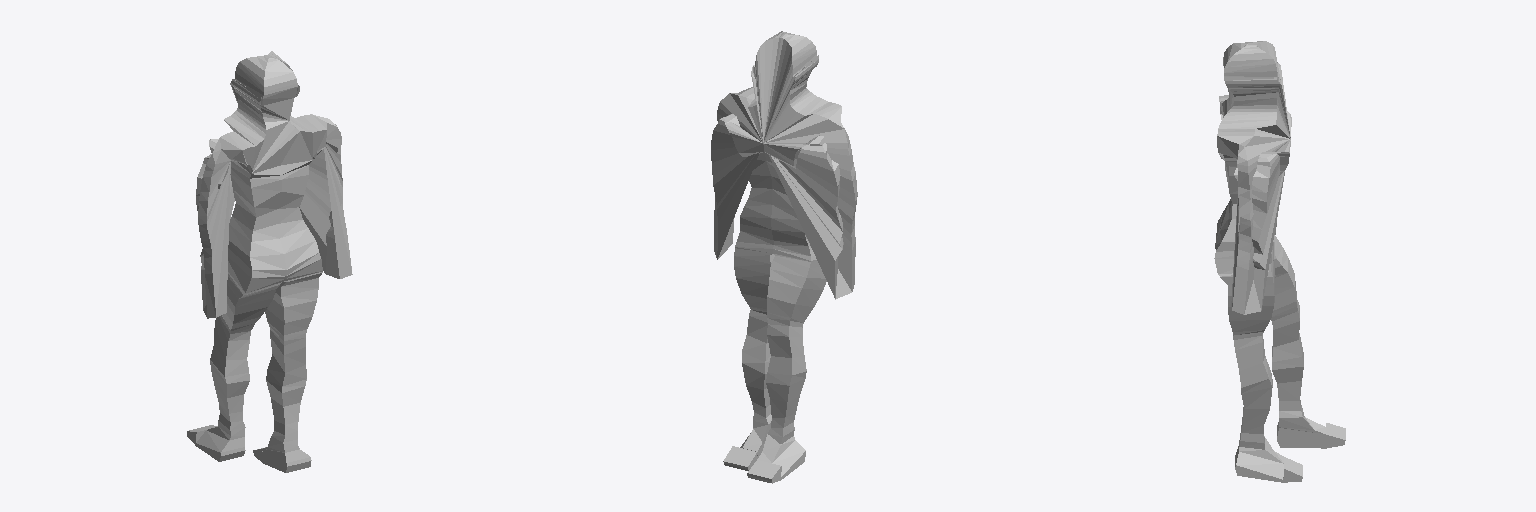
Rendered from woman_000038.obj.
3 renders of one model, left to right at view 1: azimuth 30°, elevation 25°; view 2: azimuth 150°, elevation 25°; view 3: azimuth 270°, elevation 25°, orthographic.
Visible parts, largest first — view 1: Cube_Cube.001; view 2: Cube_Cube.001; view 3: Cube_Cube.001.
Part boxes in pixels (left/top/right/bottom): Cube_Cube.001: left=187, top=51, right=352, bottom=472; Cube_Cube.001: left=711, top=31, right=857, bottom=483; Cube_Cube.001: left=1214, top=41, right=1345, bottom=482.
Bounding box in the file's own units: 3.62 × 10.04 × 2.84.